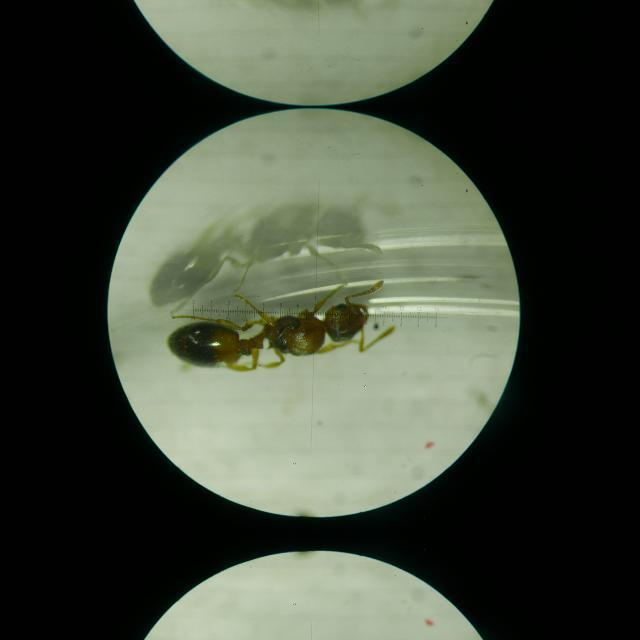Temnothorax: (163, 273, 377, 379)
